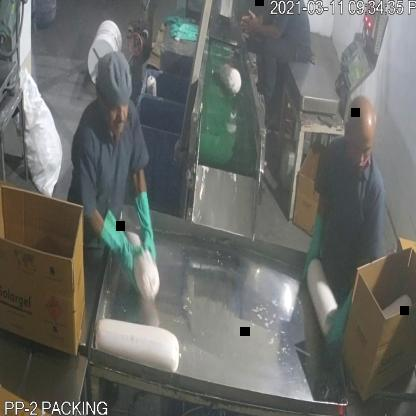glove: (99, 208, 142, 285), (135, 183, 165, 274)
no_glove: (240, 6, 281, 52)
